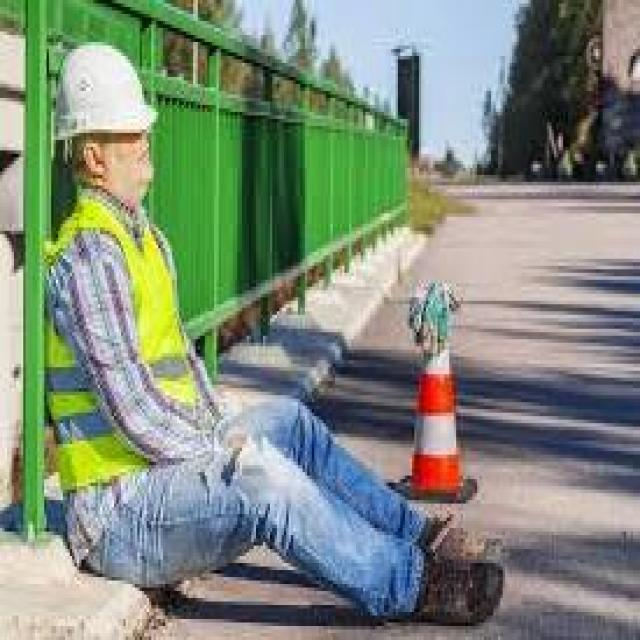Reflective-Jacket: (35, 196, 202, 504)
Safety-Helmet: (47, 35, 158, 154)
